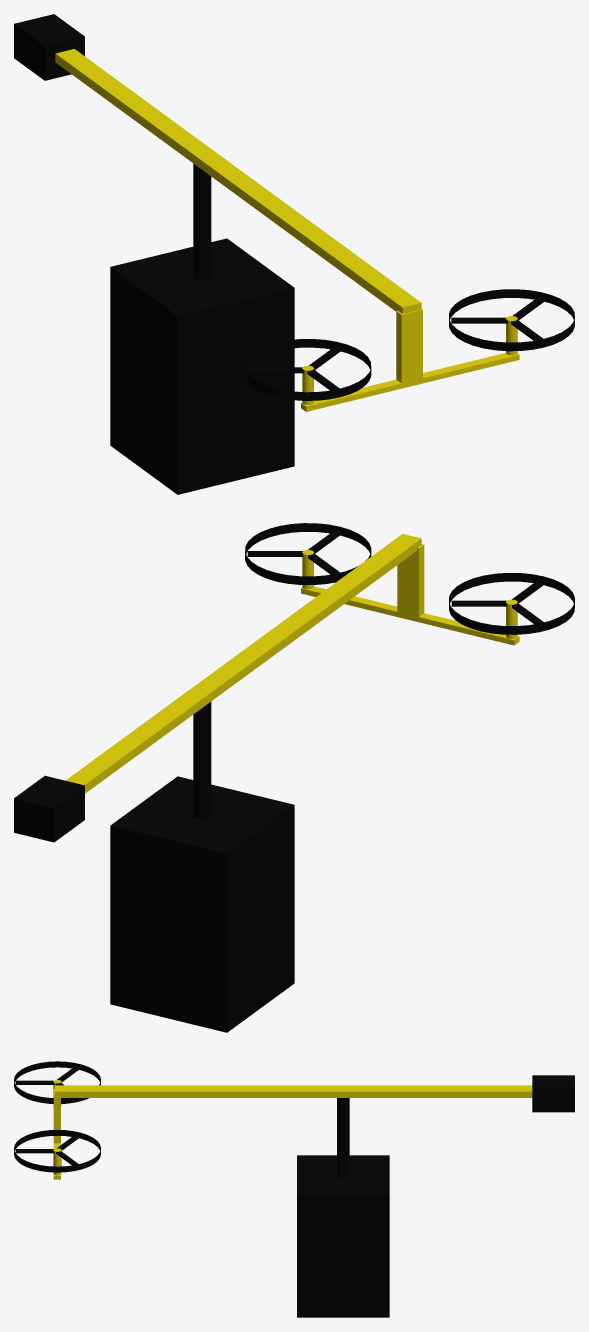
Rendered from 3dof.fbx.
The picture shows the model from 3 angles, top to bottom: view 1: azimuth 30°, elevation 25°; view 2: azimuth 150°, elevation 25°; view 3: azimuth 270°, elevation 25°; orthographic projection. The views are drawn at different scales.
Parts seen in each view (by area): view 1: Cube, Cube.005, Cylinder.002, Cylinder.005, Cube.008, Cylinder.006, Cube.007, Cube.006; view 2: Cube, Cube.005, Cube.008, Cylinder.002, Cylinder.005, Cylinder.006, Cube.006, Cube.007; view 3: Cube, Cube.005, Cube.008, Cylinder.005, Cylinder.002, Cylinder.006, Cube.006.
Part boxes in pixels (<box>): Cube: <box>110,238,294,494</box>; Cube.005: <box>55,49,421,313</box>; Cylinder.002: <box>245,339,371,400</box>; Cylinder.005: <box>449,289,574,351</box>; Cube.008: <box>14,14,84,80</box>; Cylinder.006: <box>193,163,211,280</box>; Cube.007: <box>301,353,519,411</box>; Cube.006: <box>396,309,422,384</box>; Cube: <box>110,776,294,1032</box>; Cube.005: <box>66,534,421,793</box>; Cube.008: <box>14,775,84,842</box>; Cylinder.002: <box>449,573,574,634</box>; Cylinder.005: <box>245,523,371,584</box>; Cylinder.006: <box>193,702,211,818</box>; Cube.006: <box>397,544,424,617</box>; Cube.007: <box>301,586,519,645</box>; Cube: <box>297,1155,389,1317</box>; Cube.005: <box>54,1085,532,1097</box>; Cube.008: <box>532,1075,574,1112</box>; Cylinder.005: <box>14,1130,100,1172</box>; Cylinder.002: <box>14,1061,100,1103</box>; Cylinder.006: <box>337,1098,349,1177</box>; Cube.006: <box>53,1089,60,1143</box>.
Size of the model in its own units: 50.95 by 48.79 by 115.
